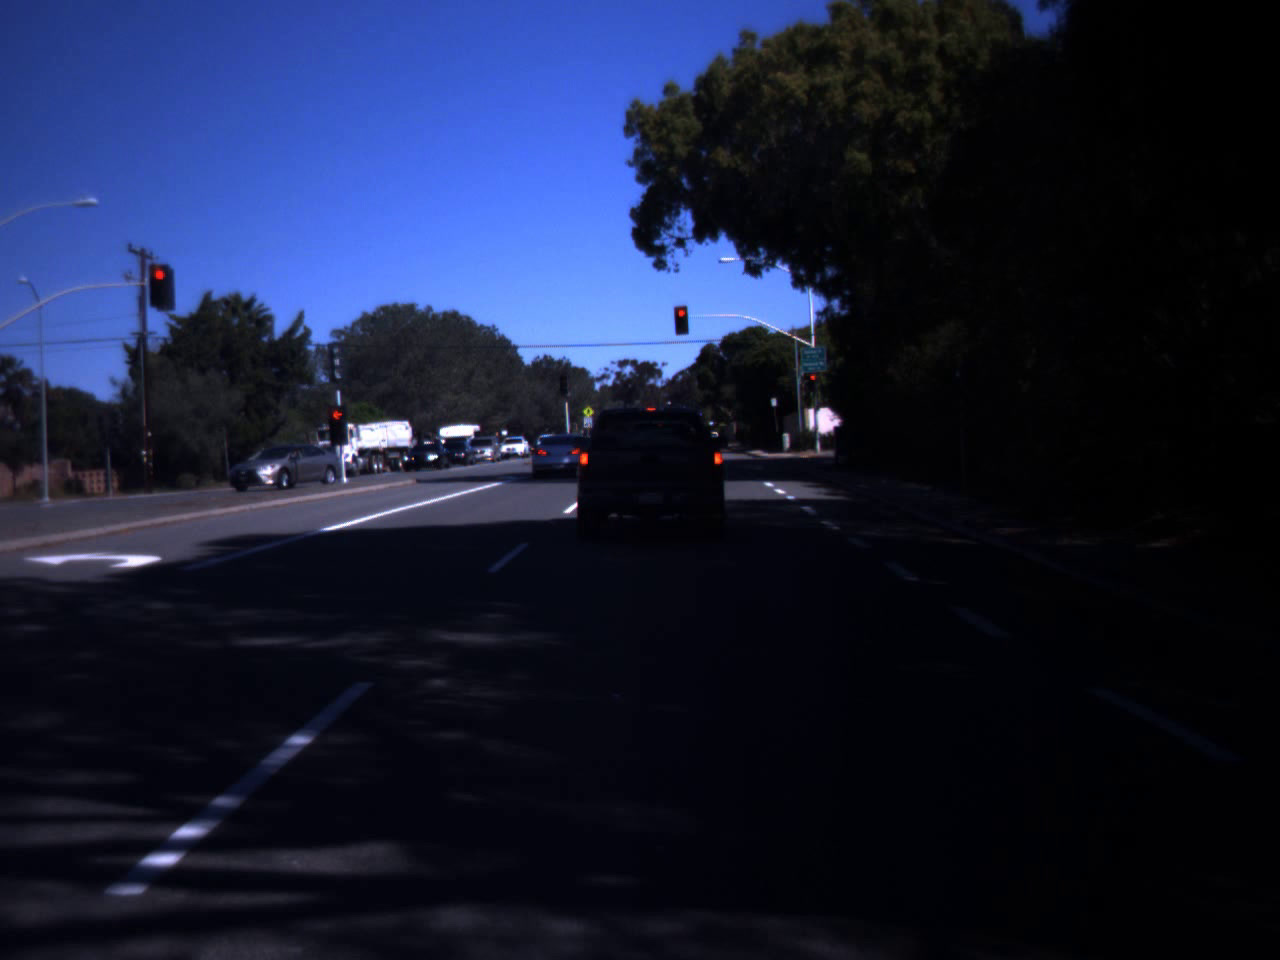stop: (149, 267, 170, 298), (327, 409, 348, 436), (676, 308, 688, 330), (806, 374, 818, 392)
